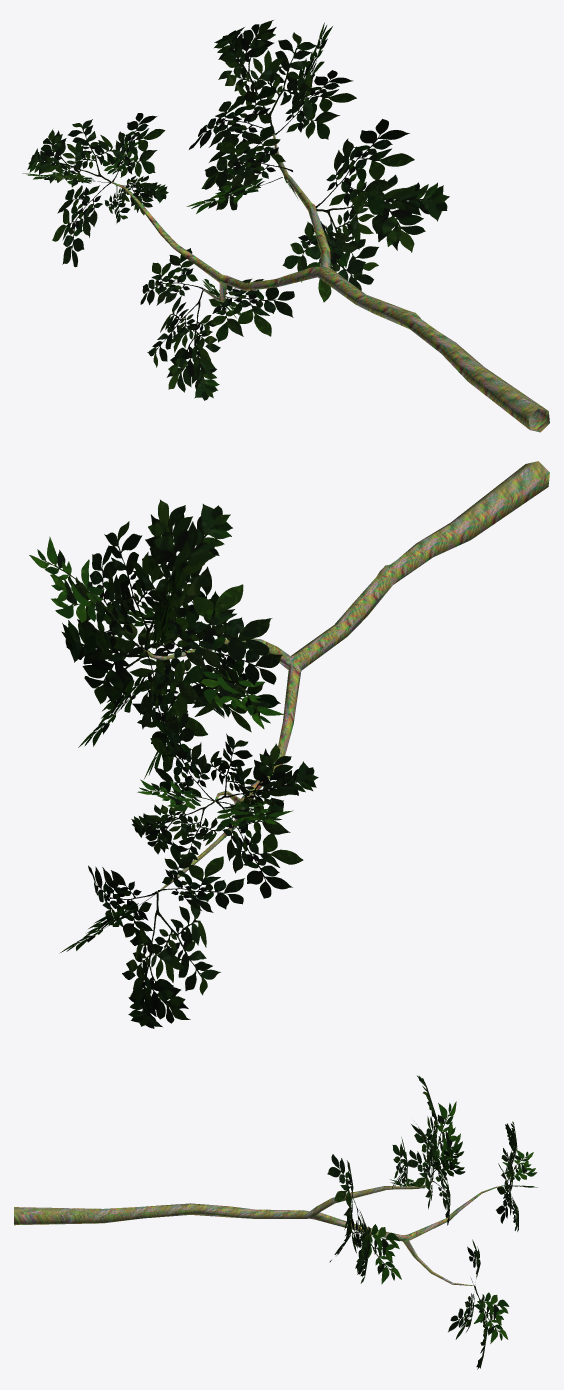
File: BroadLeaf_SS.obj
3 renders of one model, top to bottom at view 1: azimuth 30°, elevation 25°; view 2: azimuth 150°, elevation 25°; view 3: azimuth 270°, elevation 25°, orthographic. The views are drawn at different scales.
Parts seen in each view (by area): view 1: polySurface118_1__Mt_TreeLeaf_A, pCylinder42__Mt_Tree_Wood_RedBark_A; view 2: polySurface118_1__Mt_TreeLeaf_A, pCylinder42__Mt_Tree_Wood_RedBark_A; view 3: polySurface118_1__Mt_TreeLeaf_A, pCylinder42__Mt_Tree_Wood_RedBark_A.
Boxes of the visible parts, x1,y1,x2,y2 form: polySurface118_1__Mt_TreeLeaf_A: [22, 20, 449, 400]; pCylinder42__Mt_Tree_Wood_RedBark_A: [111, 134, 549, 432]; polySurface118_1__Mt_TreeLeaf_A: [29, 499, 318, 1028]; pCylinder42__Mt_Tree_Wood_RedBark_A: [143, 461, 549, 892]; polySurface118_1__Mt_TreeLeaf_A: [327, 1075, 537, 1369]; pCylinder42__Mt_Tree_Wood_RedBark_A: [14, 1180, 506, 1285].
Size of the model in its own units: 1.75 by 2.14 by 3.44.
3 materials, 2 textured.
